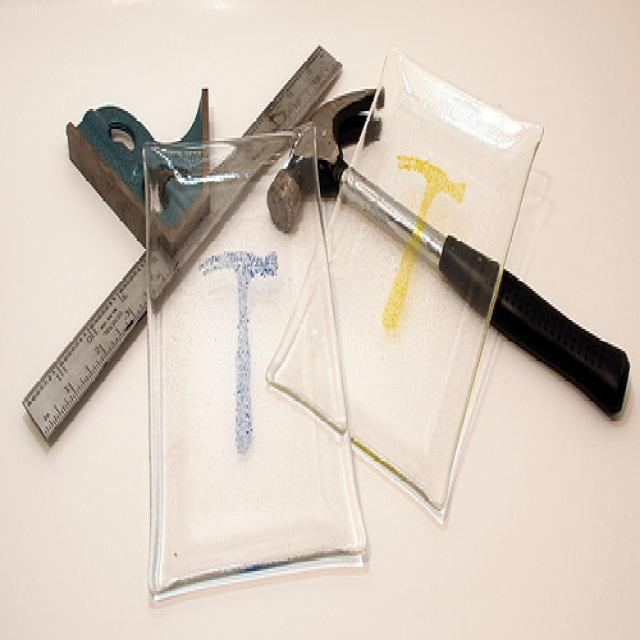hammer: (266, 67, 640, 420)
